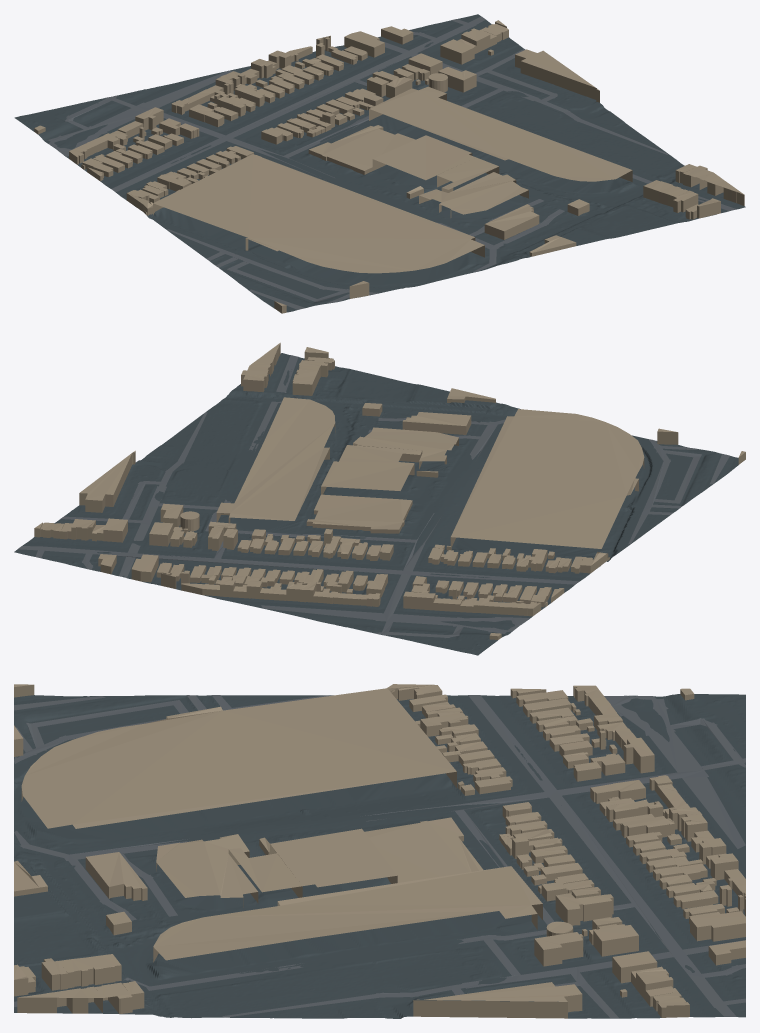
Rendered from epsg26910-1437-10868.lod0.glb.
3 views of the same model, one above another, from view 1: azimuth 30°, elevation 25°; view 2: azimuth 150°, elevation 25°; view 3: azimuth 270°, elevation 25° (orthographic). The views are drawn at different scales.
Parts seen in each view (by area): view 1: epsg26910-1437-10868-lod0; view 2: epsg26910-1437-10868-lod0; view 3: epsg26910-1437-10868-lod0.
Boxes of the visible parts, x1,y1,x2,y2 form: epsg26910-1437-10868-lod0: (14,14,745,313); epsg26910-1437-10868-lod0: (14,342,745,655); epsg26910-1437-10868-lod0: (14,684,745,1018).
Size of the model in its own units: 384 by 17.12 by 384.
